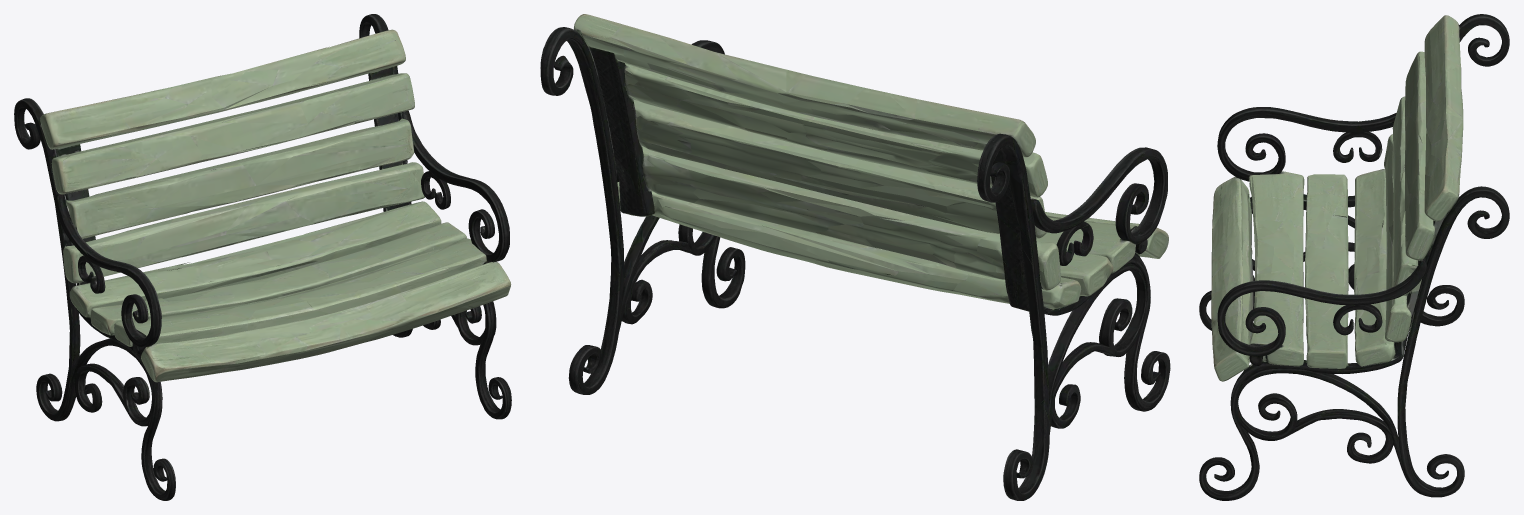
Rendered from bench.glb.
3 renders of one model, left to right at view 1: azimuth 30°, elevation 25°; view 2: azimuth 150°, elevation 25°; view 3: azimuth 270°, elevation 25°, orthographic. The views are drawn at different scales.
Parts seen in each view (by area): view 1: Mesh_0; view 2: Mesh_0; view 3: Mesh_0.
Part boxes in pixels (x1,y1,x2,y2): Mesh_0: [14, 14, 511, 500]; Mesh_0: [540, 14, 1170, 500]; Mesh_0: [1199, 14, 1509, 500].
Bounding box in the file's own units: 1.9 × 1.56 × 1.39.
Materials: 1 (1 with a texture image).
